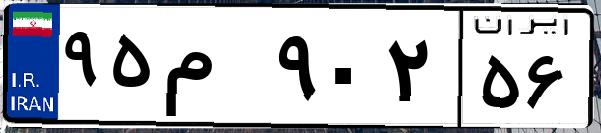0: (330, 28, 385, 110)
2: (385, 28, 445, 110)
5: (475, 38, 525, 113), (110, 28, 158, 98)
6: (525, 38, 570, 115)
9: (270, 28, 330, 110), (57, 26, 110, 100)
م: (158, 20, 270, 120)
